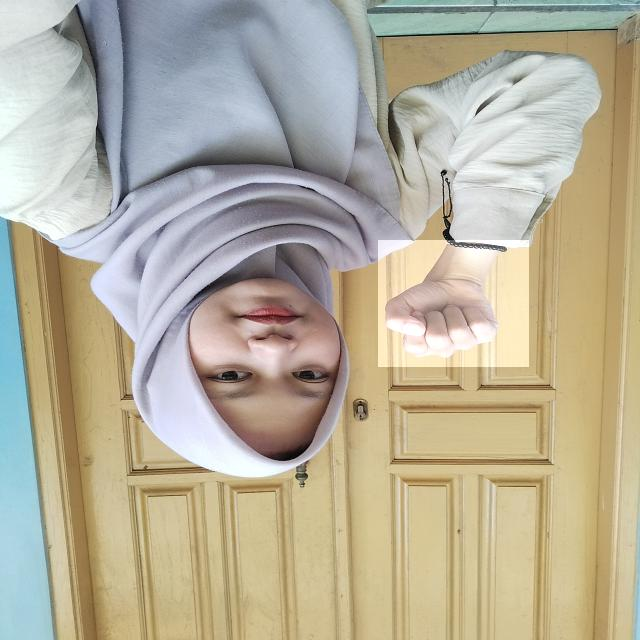baik: (378, 240, 529, 367)
